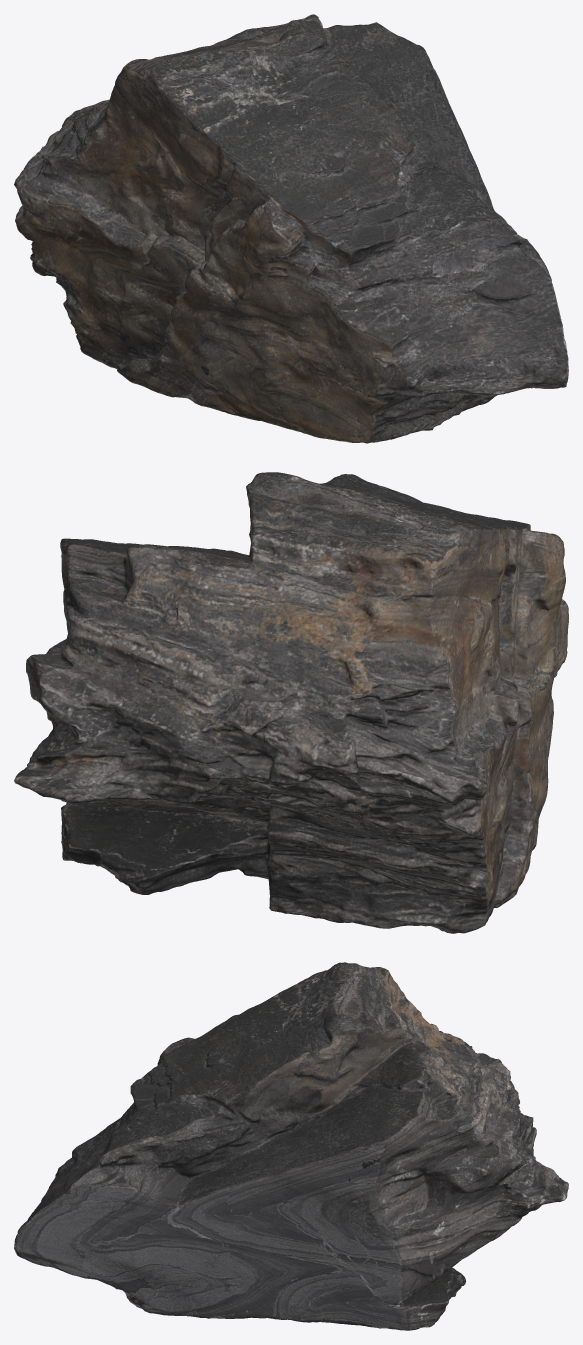
The picture shows the model from 3 angles, top to bottom: view 1: azimuth 30°, elevation 25°; view 2: azimuth 150°, elevation 25°; view 3: azimuth 270°, elevation 25°; orthographic projection. The views are drawn at different scales.
Parts seen in each view (by area): view 1: Meshmixer to Blender; view 2: Meshmixer to Blender; view 3: Meshmixer to Blender.
Part boxes in pixels (<box>): Meshmixer to Blender: <box>14,14,568,443</box>; Meshmixer to Blender: <box>14,472,568,933</box>; Meshmixer to Blender: <box>14,962,568,1330</box>.
Size of the model in its own units: 0.1228 by 0.0956 by 0.1841.
Materials: 1 (1 with a texture image).
